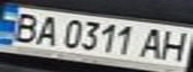0: (57, 16, 84, 50)
1: (115, 22, 139, 56), (97, 21, 118, 54)
3: (78, 19, 103, 52)
A: (136, 26, 169, 60), (30, 13, 63, 46)
B: (6, 10, 45, 44)
H: (157, 28, 190, 62)
